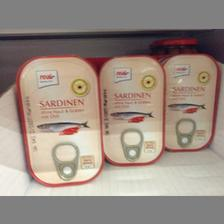Fisch: (15, 54, 101, 186), (99, 54, 163, 166), (162, 52, 218, 152)
